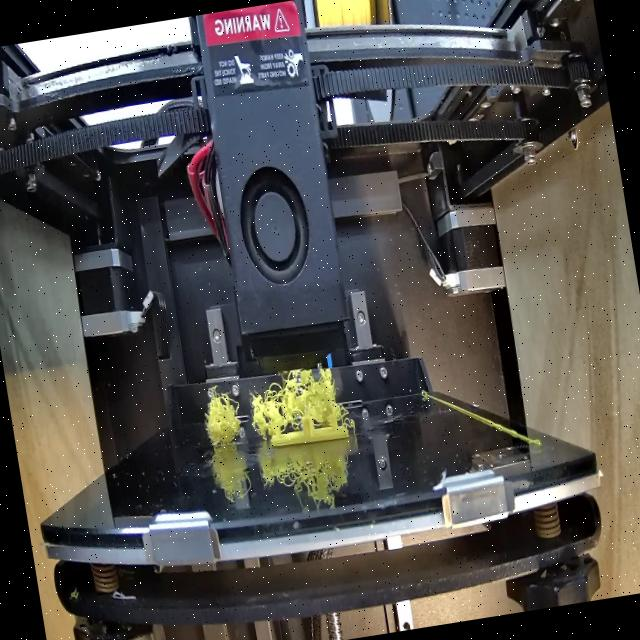spaghetti: (200, 354, 342, 445)
